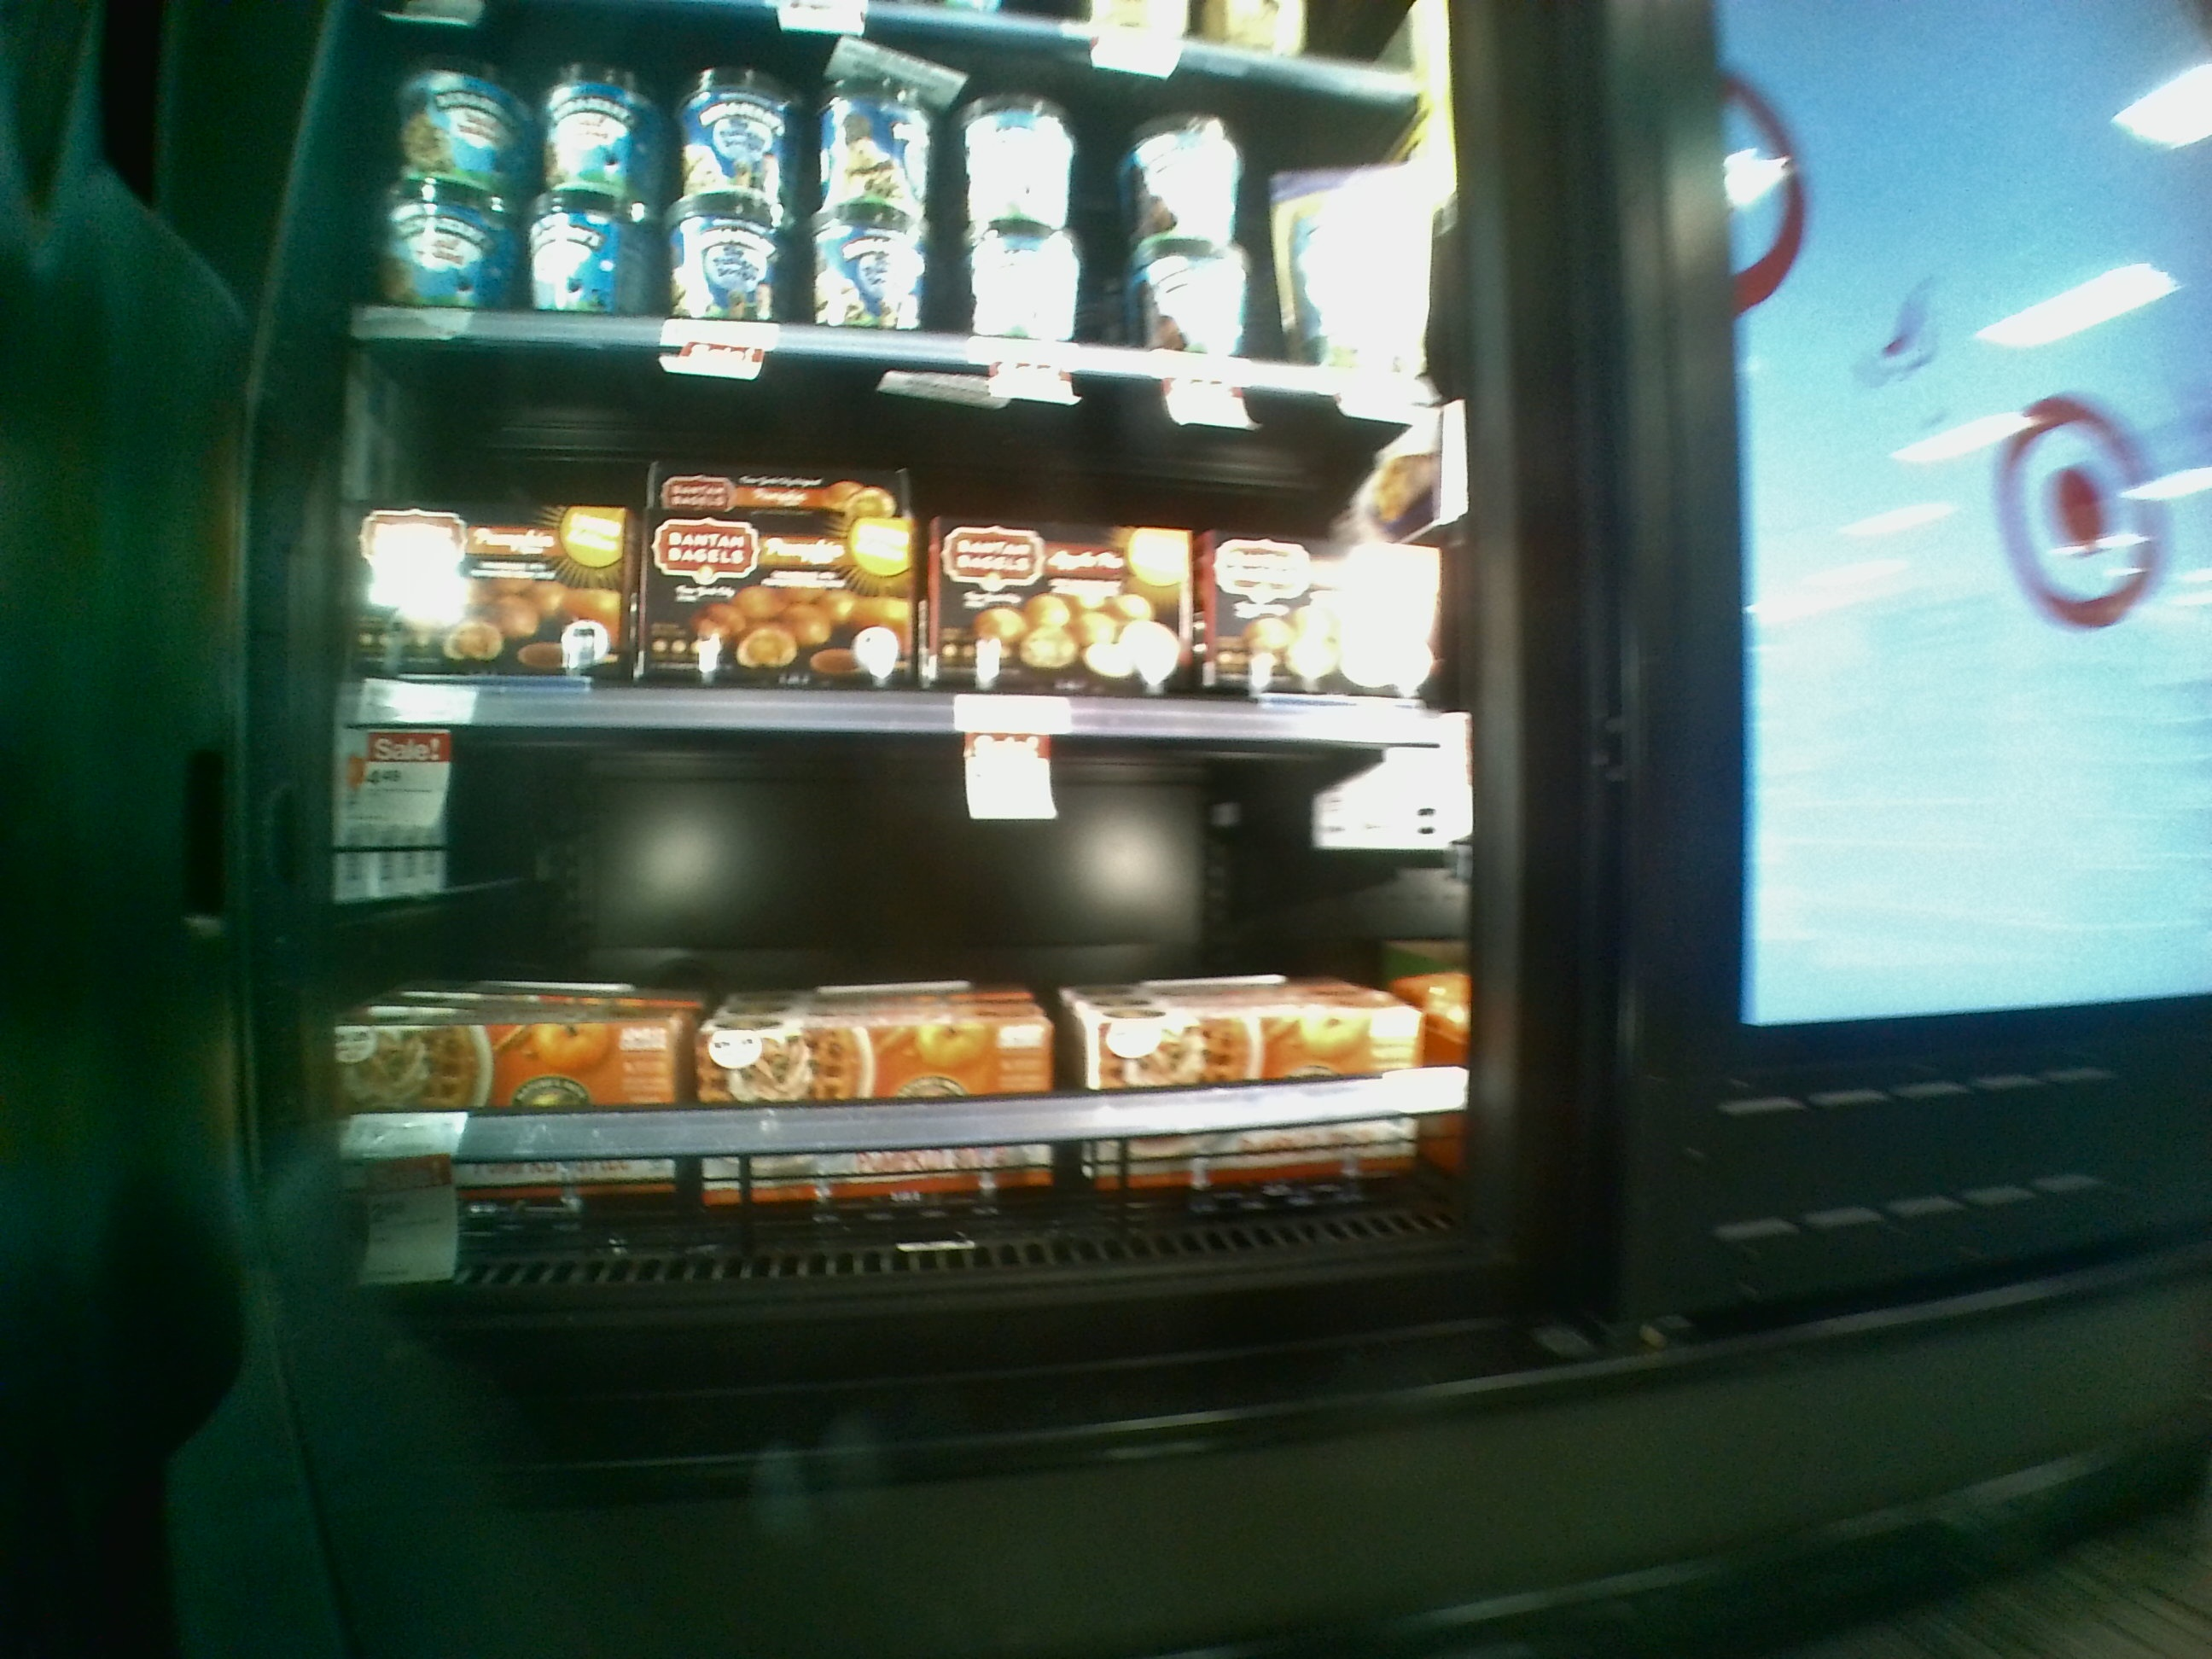shelf: (307, 713, 1468, 1230), (347, 336, 1470, 749)
